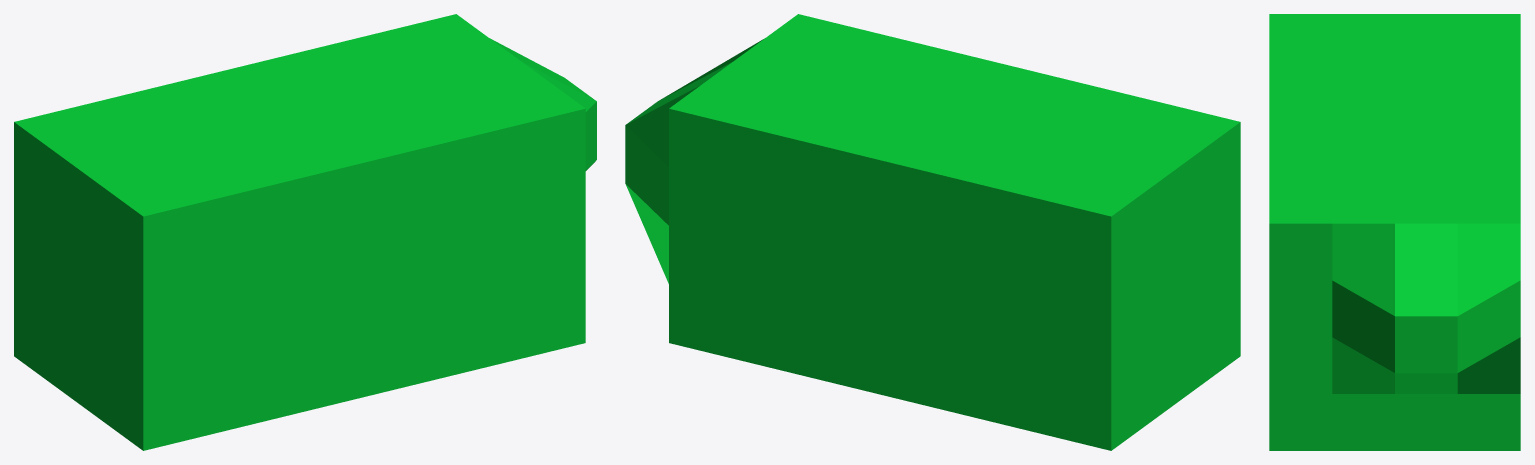
File: costam.fbx
The picture shows the model from 3 angles, left to right: view 1: azimuth 30°, elevation 25°; view 2: azimuth 150°, elevation 25°; view 3: azimuth 270°, elevation 25°; orthographic projection. The views are drawn at different scales.
Parts seen in each view (by area): view 1: Cube; view 2: Cube; view 3: Cube.
Boxes of the visible parts, x1,y1,x2,y2 form: Cube: (14, 14, 596, 450); Cube: (625, 14, 1240, 450); Cube: (1269, 14, 1520, 450).
Bounding box in the file's own units: 463 × 200 × 200.
